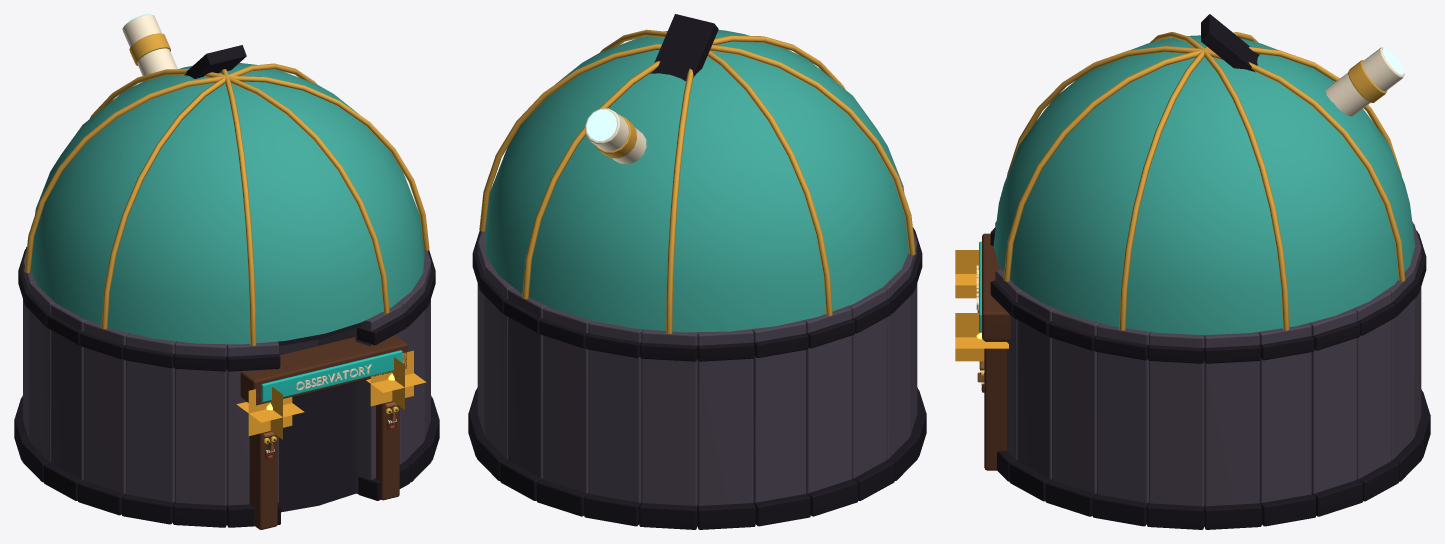
The model's file is lava_observatory.glb.
3 views of the same model, side by side, from view 1: azimuth 30°, elevation 25°; view 2: azimuth 150°, elevation 25°; view 3: azimuth 270°, elevation 25° (orthographic). The views are drawn at different scales.
Parts seen in each view (by area): view 1: Observatory; view 2: Observatory; view 3: Observatory.
Part boxes in pixels (x1,y1,x2,y2): Observatory: (14,14,439,529); Observatory: (468,14,926,529); Observatory: (955,14,1430,529).
Bounding box in the file's own units: 9.97 × 10.02 × 10.47.
